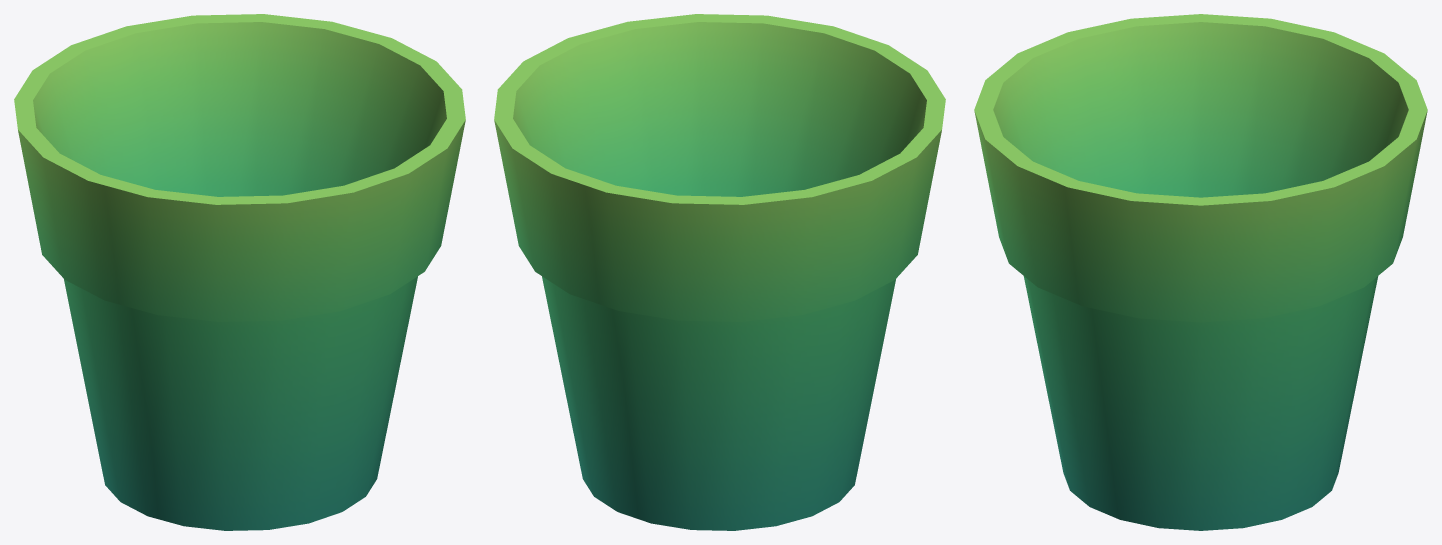
The model's file is PlantPot_24.fbx.
The picture shows the model from 3 angles, left to right: view 1: azimuth 30°, elevation 25°; view 2: azimuth 150°, elevation 25°; view 3: azimuth 270°, elevation 25°; orthographic projection.
Visible parts, largest first — view 1: PlantPot_24; view 2: PlantPot_24; view 3: PlantPot_24.
Boxes of the visible parts, left/top/right/bottom form: PlantPot_24: left=14, top=14, right=465, bottom=530; PlantPot_24: left=494, top=14, right=945, bottom=530; PlantPot_24: left=974, top=14, right=1427, bottom=530.
Size of the model in its own units: 21.58 by 19.06 by 21.58.
